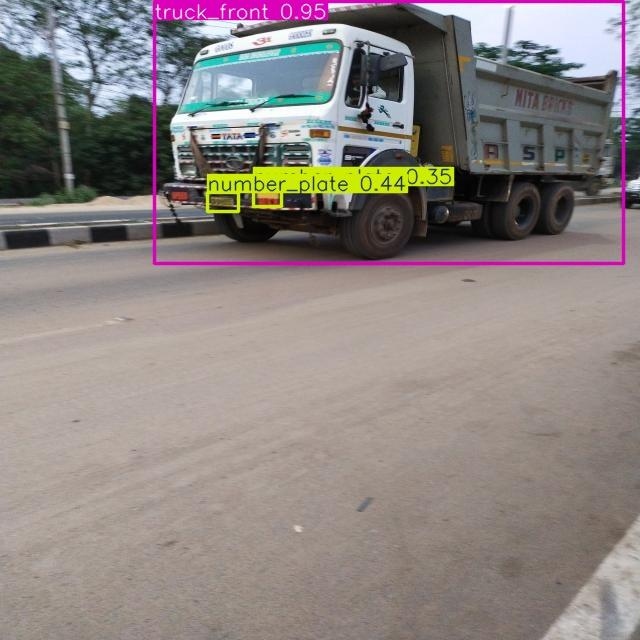truck_front: (171, 0, 611, 264)
